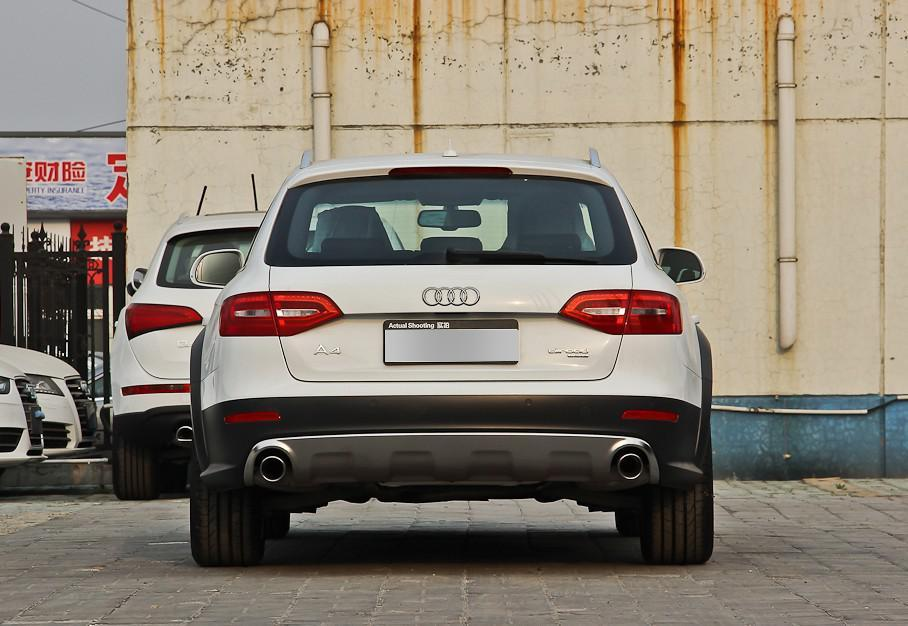Wagon: (187, 149, 716, 568)
